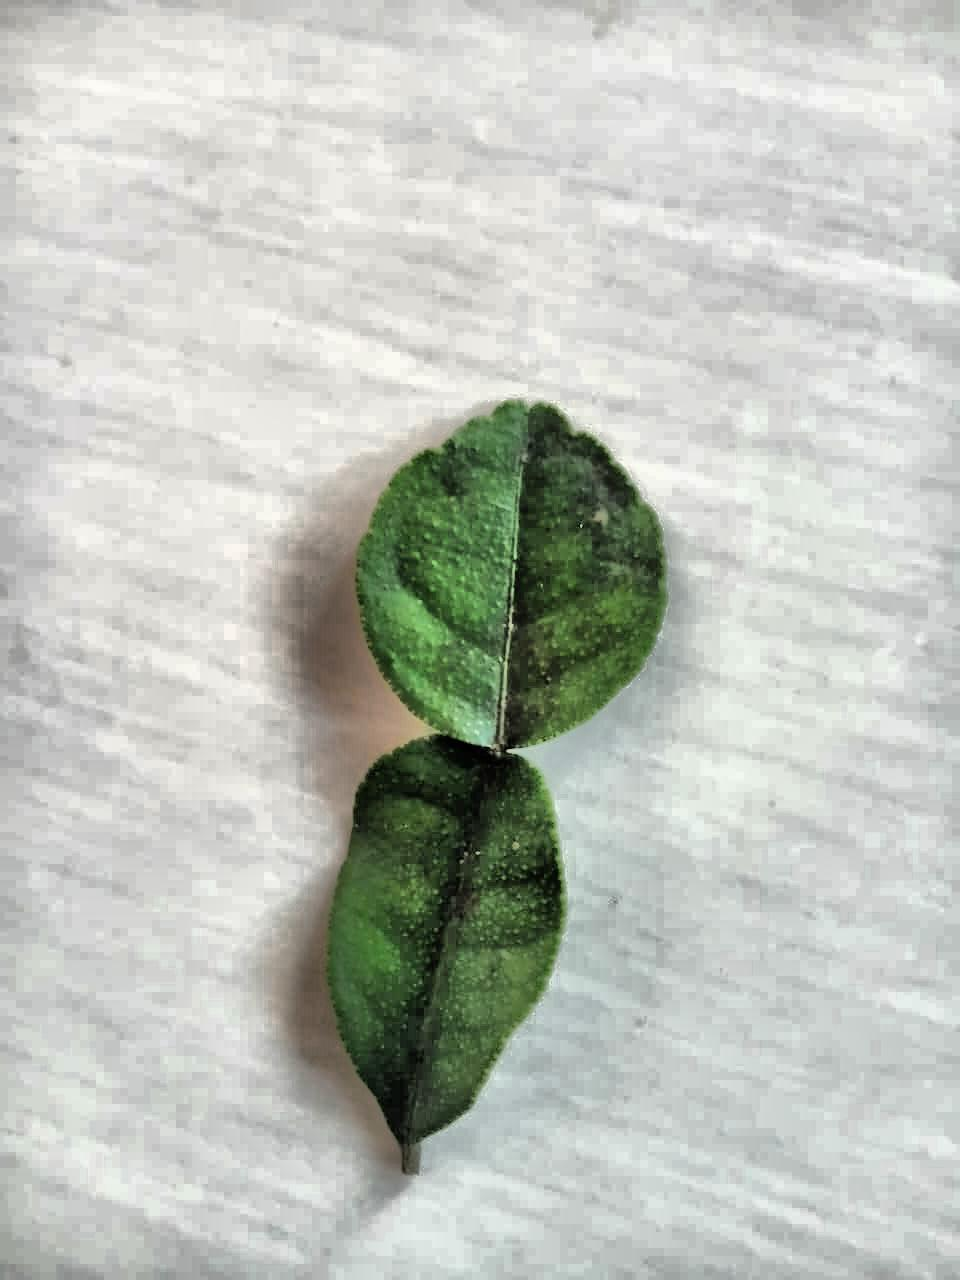daun jeruk: (326, 403, 666, 1172)
